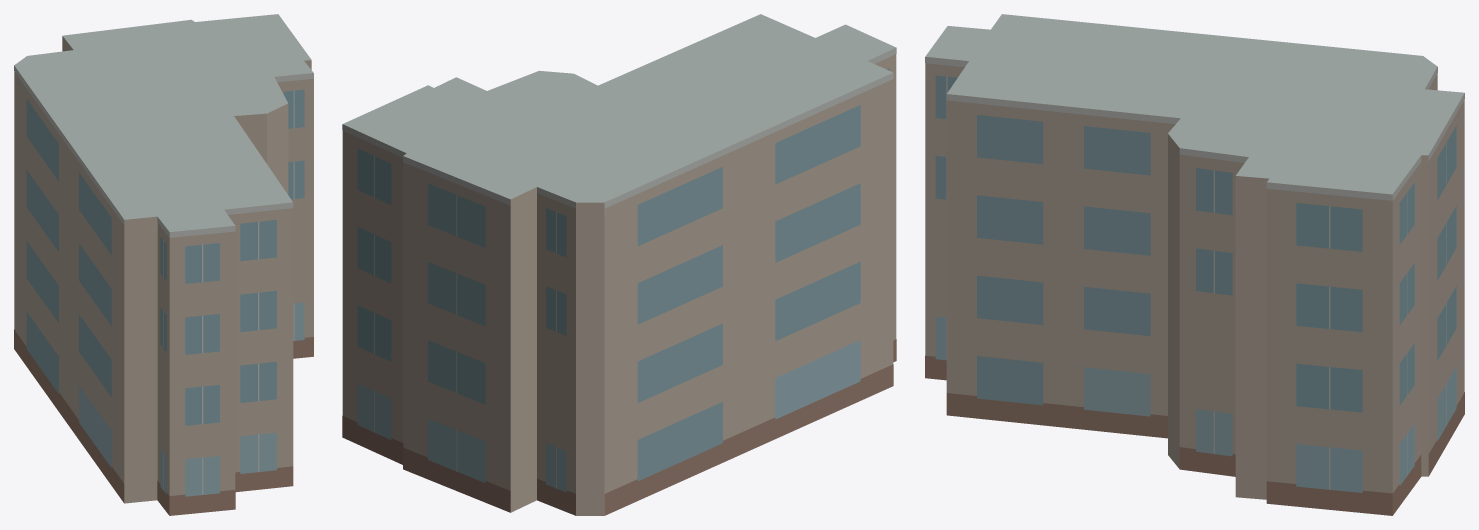
The model's file is survey-upis-32499921.glb.
3 views of the same model, side by side, from view 1: azimuth 30°, elevation 25°; view 2: azimuth 150°, elevation 25°; view 3: azimuth 270°, elevation 25° (orthographic). The views are drawn at different scales.
Visible parts, largest first — view 1: survey-upis-32499921.tmp; view 2: survey-upis-32499921.tmp; view 3: survey-upis-32499921.tmp.
Boxes of the visible parts, left/top/right/bottom form: survey-upis-32499921.tmp: left=14, top=14, right=313, bottom=515; survey-upis-32499921.tmp: left=342, top=14, right=896, bottom=515; survey-upis-32499921.tmp: left=925, top=14, right=1464, bottom=515.
Bounding box in the file's own units: 14.64 × 12.15 × 18.5.
